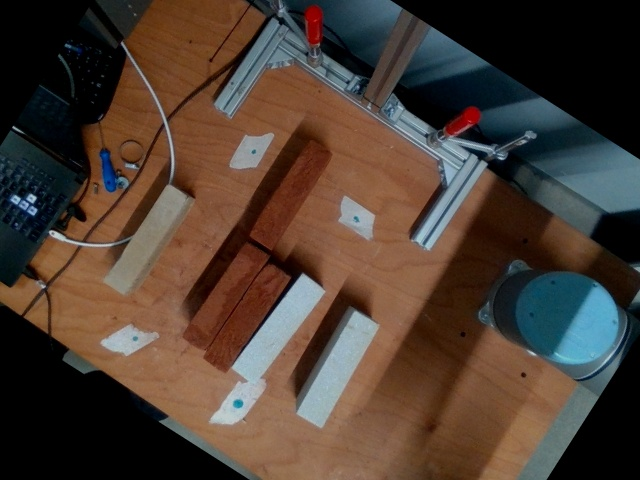brick-side: (231, 275, 324, 384), (182, 240, 269, 354), (247, 138, 334, 252), (103, 183, 190, 297), (294, 311, 378, 426), (203, 262, 288, 374)
